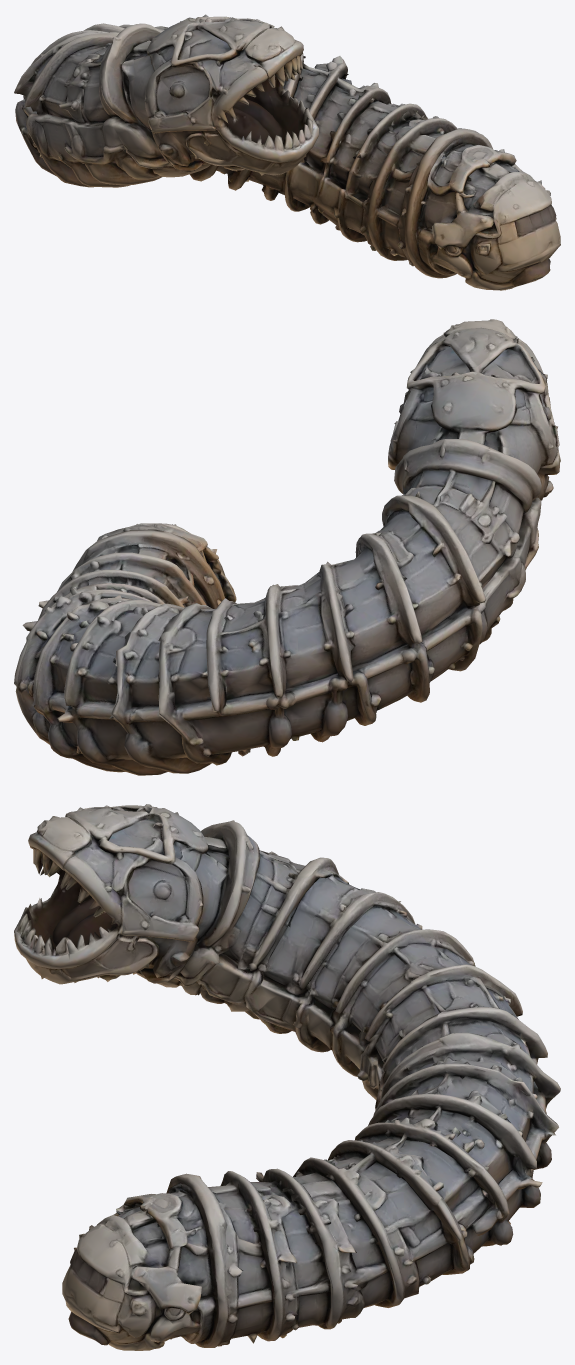
The model's file is sandworm.glb.
3 views of the same model, one above another, from view 1: azimuth 30°, elevation 25°; view 2: azimuth 150°, elevation 25°; view 3: azimuth 270°, elevation 25° (orthographic). The views are drawn at different scales.
Visible parts, largest first — view 1: tripo_node_6b02408e-5804-4a91-ac53-a2886df75f0e; view 2: tripo_node_6b02408e-5804-4a91-ac53-a2886df75f0e; view 3: tripo_node_6b02408e-5804-4a91-ac53-a2886df75f0e.
Boxes of the visible parts, x1=… form: tripo_node_6b02408e-5804-4a91-ac53-a2886df75f0e: x1=14, y1=14, x2=560, y2=290; tripo_node_6b02408e-5804-4a91-ac53-a2886df75f0e: x1=14, y1=319, x2=560, y2=775; tripo_node_6b02408e-5804-4a91-ac53-a2886df75f0e: x1=14, y1=804, x2=560, y2=1350.
Bounding box in the file's own units: 0.9833 × 0.7416 × 0.9406.
Materials: 1 (1 with a texture image).
